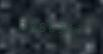nine: (26, 18, 34, 33)
six: (44, 19, 52, 34), (35, 19, 43, 33)
three: (62, 20, 70, 35), (53, 20, 61, 34)
two: (17, 18, 25, 32), (71, 21, 79, 35)
